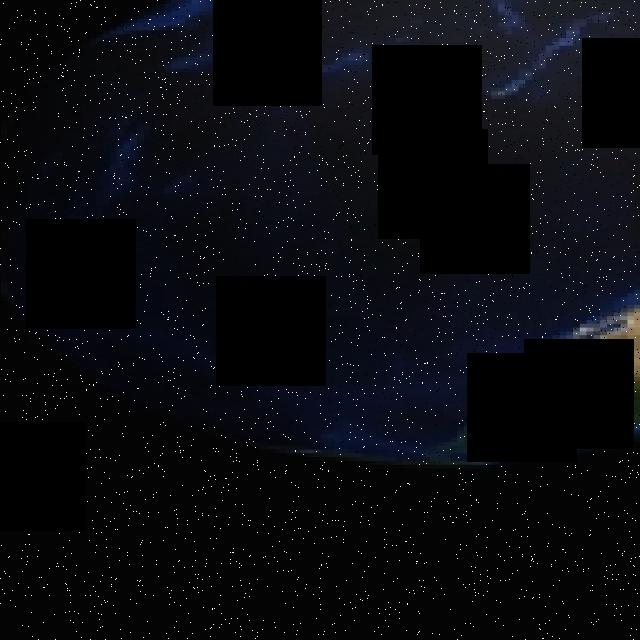Earth: (0, 1, 640, 468)
